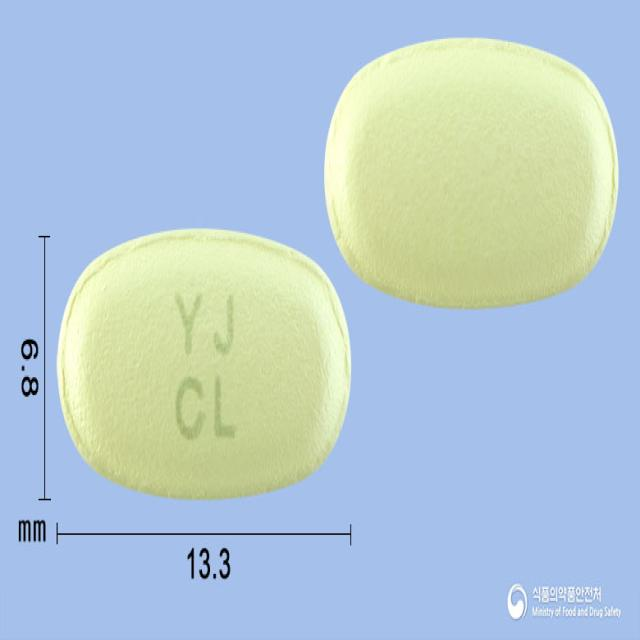Clacid -500mg: (55, 224, 359, 506)
